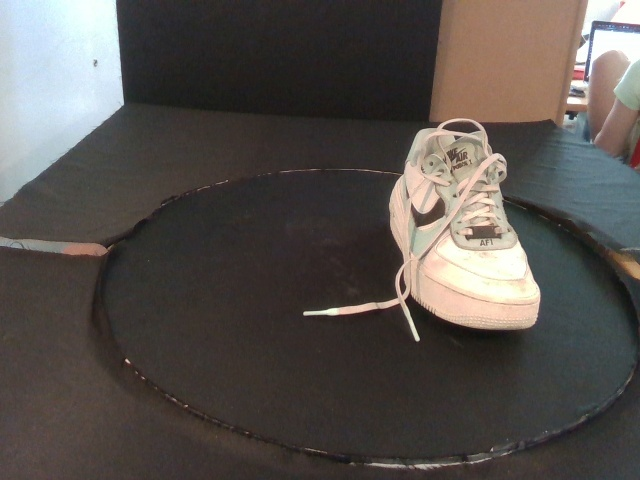shoe: (388, 127, 541, 331)
